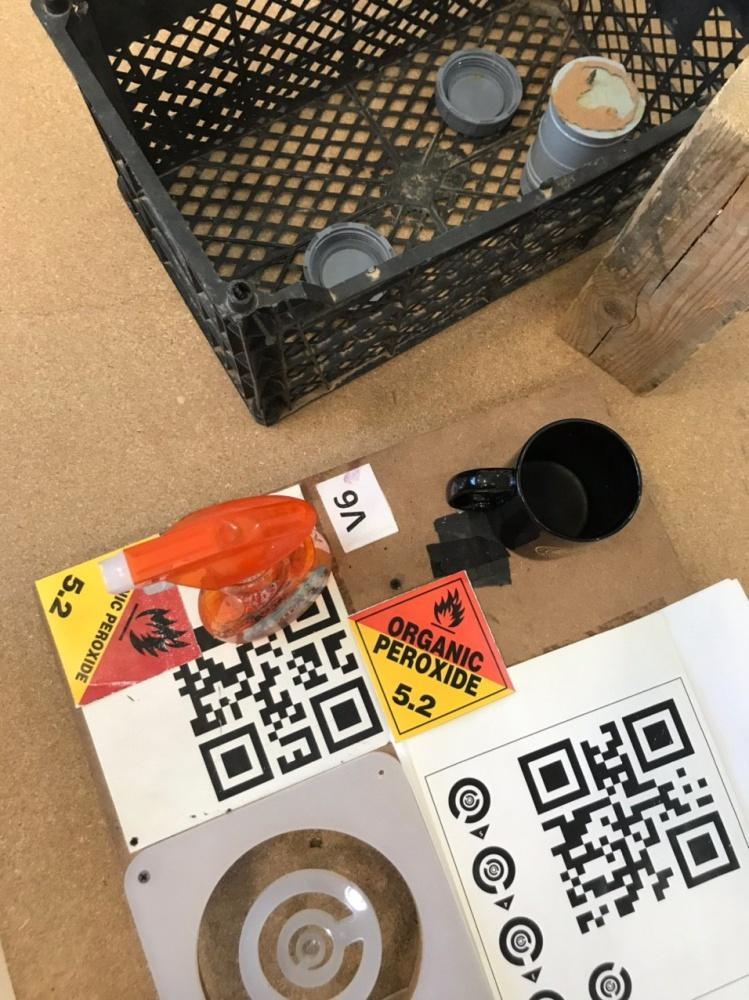organic-peroxide: (33, 531, 204, 707), (350, 569, 519, 742)
